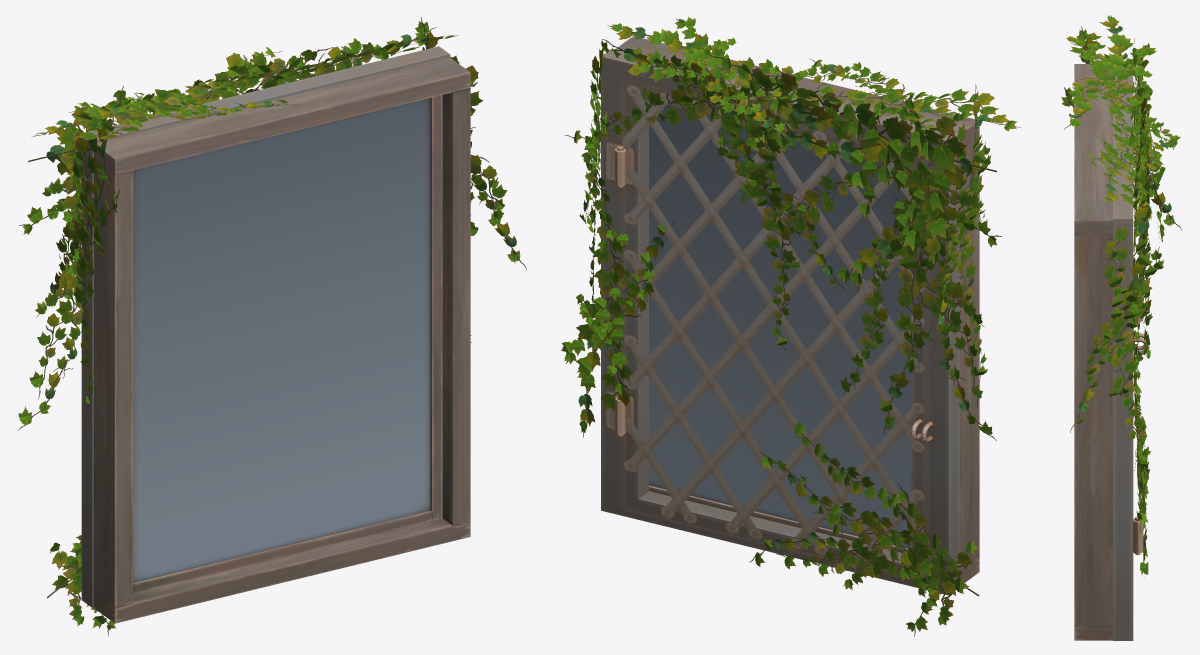
The model's file is P_WindowFrame_022_S1_M01.obj.
3 renders of one model, left to right at view 1: azimuth 30°, elevation 25°; view 2: azimuth 150°, elevation 25°; view 3: azimuth 270°, elevation 25°, orthographic. The views are drawn at different scales.
Size of the model in its own units: 2.69 by 3.04 by 0.7086.
15 materials, 15 textured.
